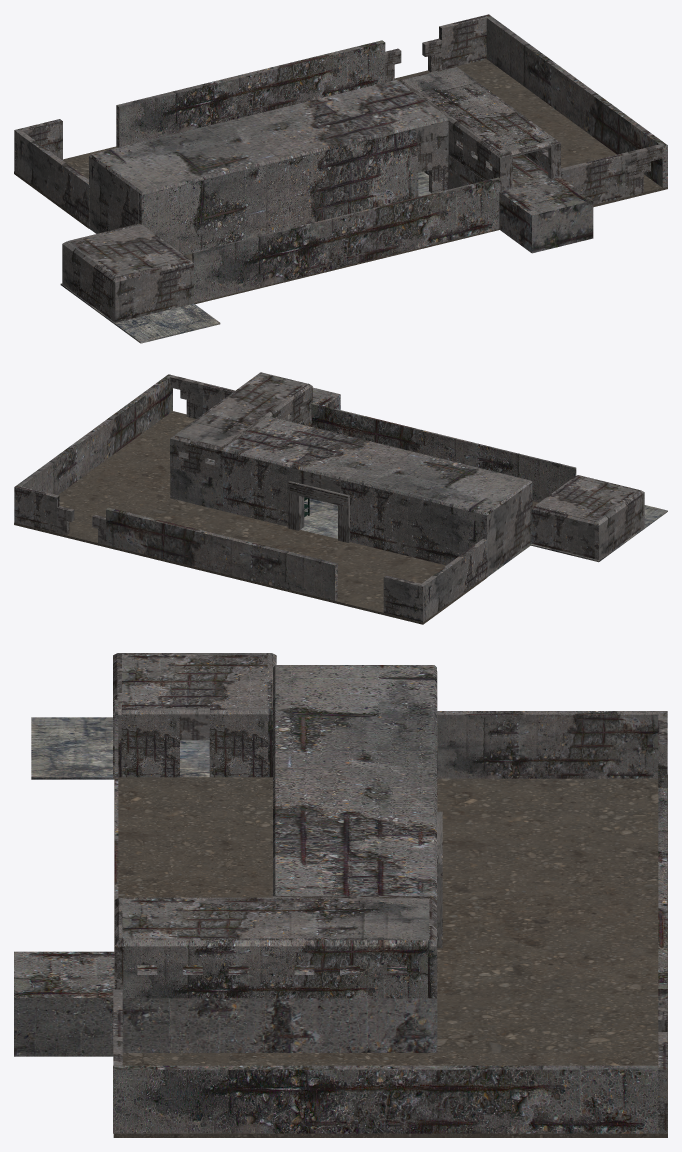
File: fixedmoratorium.obj
3 renders of one model, top to bottom at view 1: azimuth 30°, elevation 25°; view 2: azimuth 150°, elevation 25°; view 3: azimuth 270°, elevation 25°, orthographic. The views are drawn at different scales.
Visible parts, largest first — view 1: updated_moratorium:polySurface12, updated_moratorium:pCube5, updated_moratorium:pCube26, updated_moratorium:pCube33, updated_moratorium:pCube38, updated_moratorium:group11, updated_moratorium:group14, updated_moratorium:pCube36, updated_moratorium:polySurface16, updated_moratorium:pCube35, updated_moratorium:pCube28, updated_moratorium:polySurface6new_mora1 (+13 smaller); view 2: updated_moratorium:pCube5, updated_moratorium:group5, updated_moratorium:pCube33, updated_moratorium:pCube36, updated_moratorium:group18, updated_moratorium:pCube26, updated_moratorium:pCube38, updated_moratorium:group15, updated_moratorium:group14, updated_moratorium:polySurface6new_mora1, updated_moratorium:pCube35, updated_moratorium:polySurface17 (+15 smaller); view 3: updated_moratorium:group5, updated_moratorium:pCube5, updated_moratorium:pCube38, updated_moratorium:group11, updated_moratorium:pCube8, updated_moratorium:polySurface23, updated_moratorium:pCube35, updated_moratorium:group14, updated_moratorium:pCube36, updated_moratorium:pCube28, updated_moratorium:pCube27, updated_moratorium:pCube30 (+9 smaller).
Part boxes in pixels (x1=…): updated_moratorium:polySurface12: x1=138, y1=128, x2=418, y2=254; updated_moratorium:pCube5: x1=89, y1=80, x2=448, y2=195; updated_moratorium:pCube26: x1=192, y1=177, x2=500, y2=302; updated_moratorium:pCube33: x1=116, y1=40, x2=385, y2=147; updated_moratorium:pCube38: x1=486, y1=16, x2=667, y2=187; updated_moratorium:group11: x1=424, y1=142, x2=593, y2=253; updated_moratorium:group14: x1=402, y1=67, x2=552, y2=152; updated_moratorium:pCube36: x1=394, y1=59, x2=667, y2=207; updated_moratorium:polySurface16: x1=112, y1=259, x2=193, y2=322; updated_moratorium:pCube35: x1=16, y1=131, x2=89, y2=225; updated_moratorium:pCube28: x1=69, y1=224, x2=186, y2=276; updated_moratorium:polySurface6new_mora1: x1=89, y1=157, x2=141, y2=233; updated_moratorium:pCube5: x1=223, y1=416, x2=532, y2=515; updated_moratorium:group5: x1=105, y1=498, x2=487, y2=624; updated_moratorium:pCube33: x1=106, y1=507, x2=337, y2=600; updated_moratorium:pCube36: x1=14, y1=411, x2=195, y2=547; updated_moratorium:group18: x1=341, y1=480, x2=483, y2=565; updated_moratorium:pCube26: x1=311, y1=403, x2=576, y2=502; updated_moratorium:pCube38: x1=17, y1=374, x2=172, y2=494; updated_moratorium:group15: x1=222, y1=451, x2=298, y2=526; updated_moratorium:group14: x1=177, y1=373, x2=306, y2=446; updated_moratorium:polySurface6new_mora1: x1=483, y1=483, x2=532, y2=574; updated_moratorium:pCube35: x1=421, y1=539, x2=487, y2=620; updated_moratorium:polySurface17: x1=531, y1=505, x2=596, y2=558; updated_moratorium:group5: x1=437, y1=775, x2=667, y2=1053; updated_moratorium:pCube5: x1=273, y1=665, x2=436, y2=899; updated_moratorium:pCube38: x1=113, y1=1065, x2=658, y2=1133; updated_moratorium:group11: x1=14, y1=951, x2=437, y2=1056; updated_moratorium:pCube8: x1=114, y1=777, x2=272, y2=951; updated_moratorium:polySurface23: x1=123, y1=938, x2=427, y2=998; updated_moratorium:pCube35: x1=437, y1=711, x2=659, y2=778; updated_moratorium:group14: x1=122, y1=898, x2=429, y2=938; updated_moratorium:pCube36: x1=113, y1=1053, x2=667, y2=1137; updated_moratorium:pCube28: x1=122, y1=654, x2=272, y2=708; updated_moratorium:pCube27: x1=31, y1=717, x2=209, y2=779; updated_moratorium:pCube30: x1=121, y1=708, x2=179, y2=777.
Bounding box in the file's own units: 218 × 28.05 × 144.
